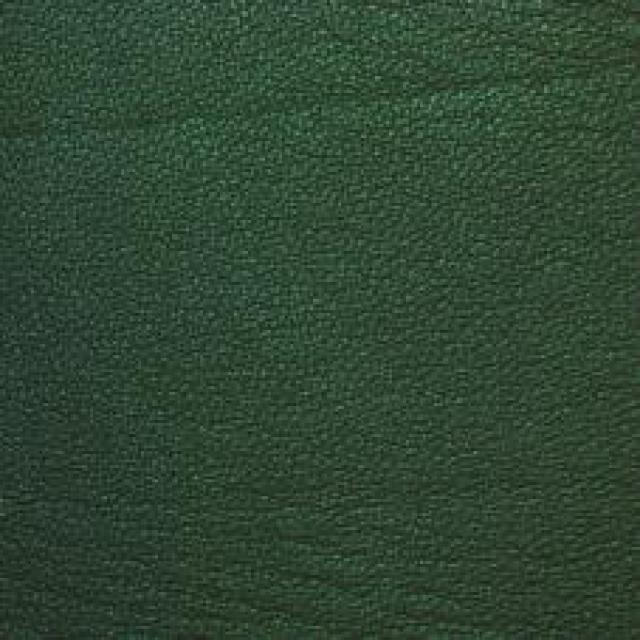Growth Marks: (134, 41, 560, 156)
